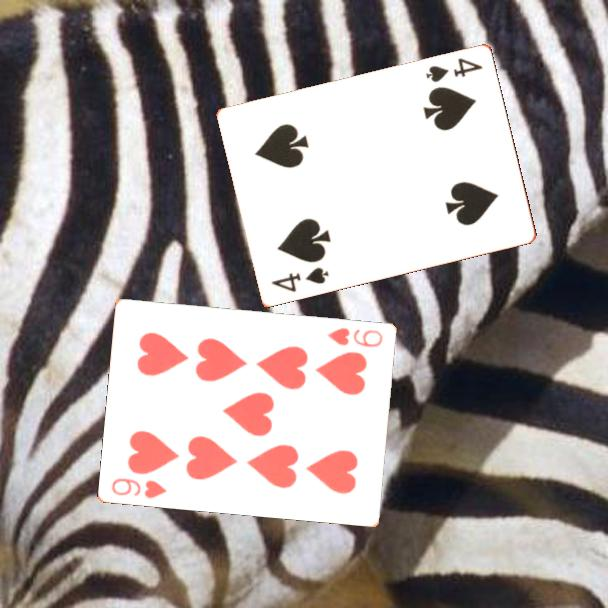h09: (108, 474, 170, 501), (324, 324, 386, 350)
s04: (268, 263, 332, 294), (422, 54, 485, 85)
